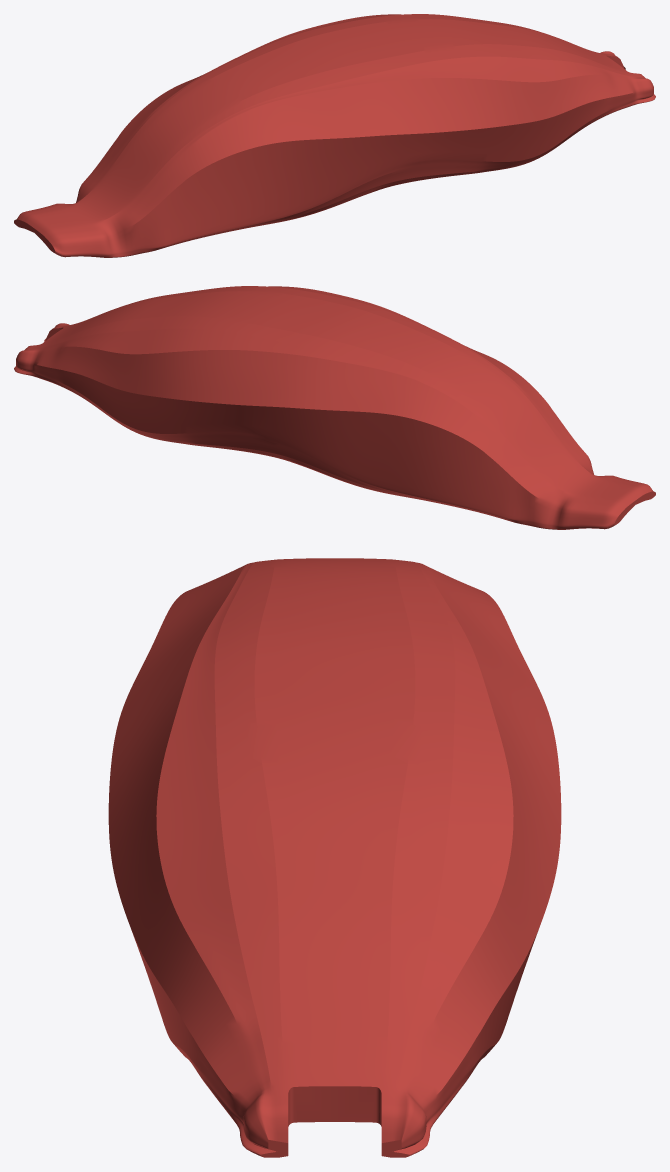
File: sports_tourer_3.glb
3 views of the same model, one above another, from view 1: azimuth 30°, elevation 25°; view 2: azimuth 150°, elevation 25°; view 3: azimuth 270°, elevation 25° (orthographic). The views are drawn at different scales.
Visible parts, largest first — view 1: sports_tourer_3; view 2: sports_tourer_3; view 3: sports_tourer_3.
Boxes of the visible parts, x1=… form: sports_tourer_3: x1=14, y1=14, x2=655, y2=257; sports_tourer_3: x1=14, y1=286, x2=655, y2=529; sports_tourer_3: x1=108, y1=558, x2=561, y2=1157.
Size of the model in its own units: 1.29 by 0.2672 by 0.4179.
